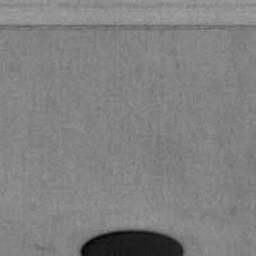Punching: (78, 229, 183, 256)
